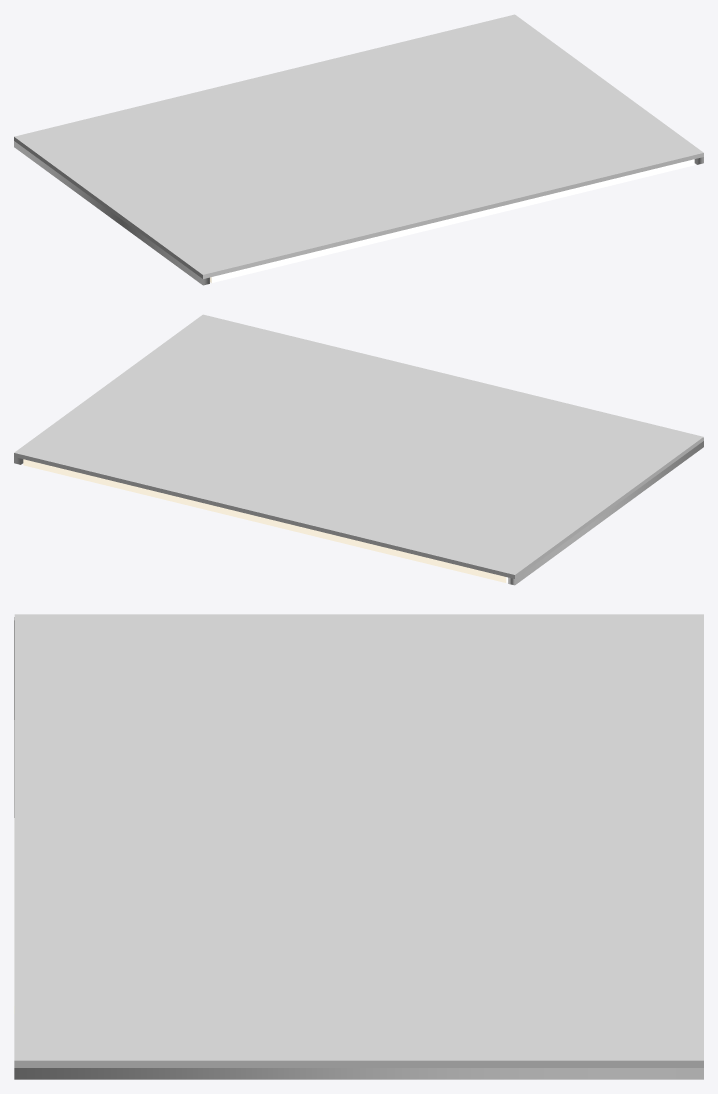
File: ceiling.fbx
3 renders of one model, top to bottom at view 1: azimuth 30°, elevation 25°; view 2: azimuth 150°, elevation 25°; view 3: azimuth 270°, elevation 25°, orthographic. The views are drawn at different scales.
Visible parts, largest first — view 1: ceiling.001, ceiling.003; view 2: ceiling.001, ceiling.003; view 3: ceiling.001.
Boxes of the visible parts, x1,y1,x2,y2 form: ceiling.001: (14, 14, 703, 285); ceiling.003: (210, 159, 694, 283); ceiling.001: (14, 314, 703, 585); ceiling.003: (23, 459, 507, 582); ceiling.001: (14, 614, 703, 1079).
Bounding box in the file's own units: 1281 × 29.89 × 837.
